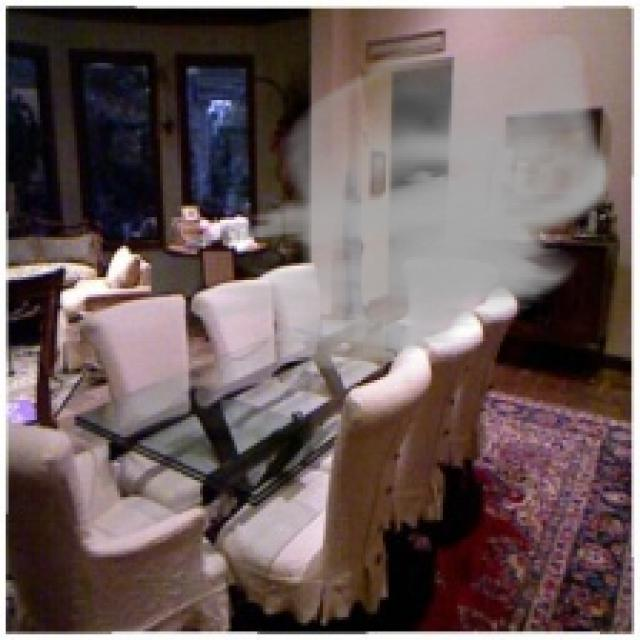smoke: (194, 31, 612, 380)
